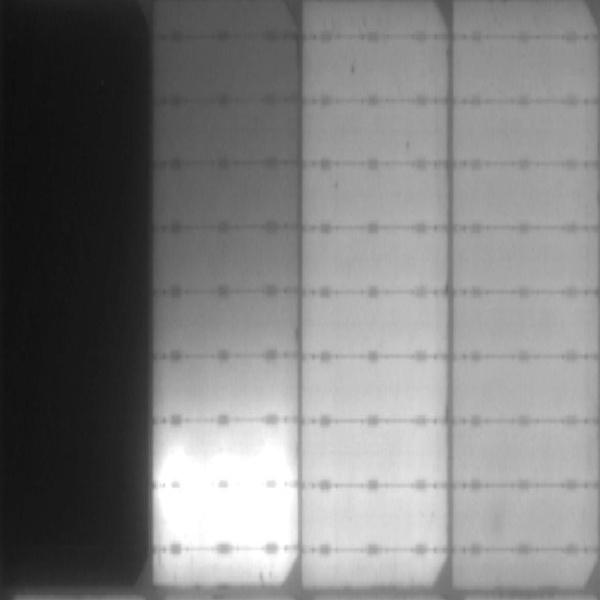hot_spot: (164, 491, 293, 541), (161, 453, 288, 482)
no_electricity: (1, 1, 152, 582)
